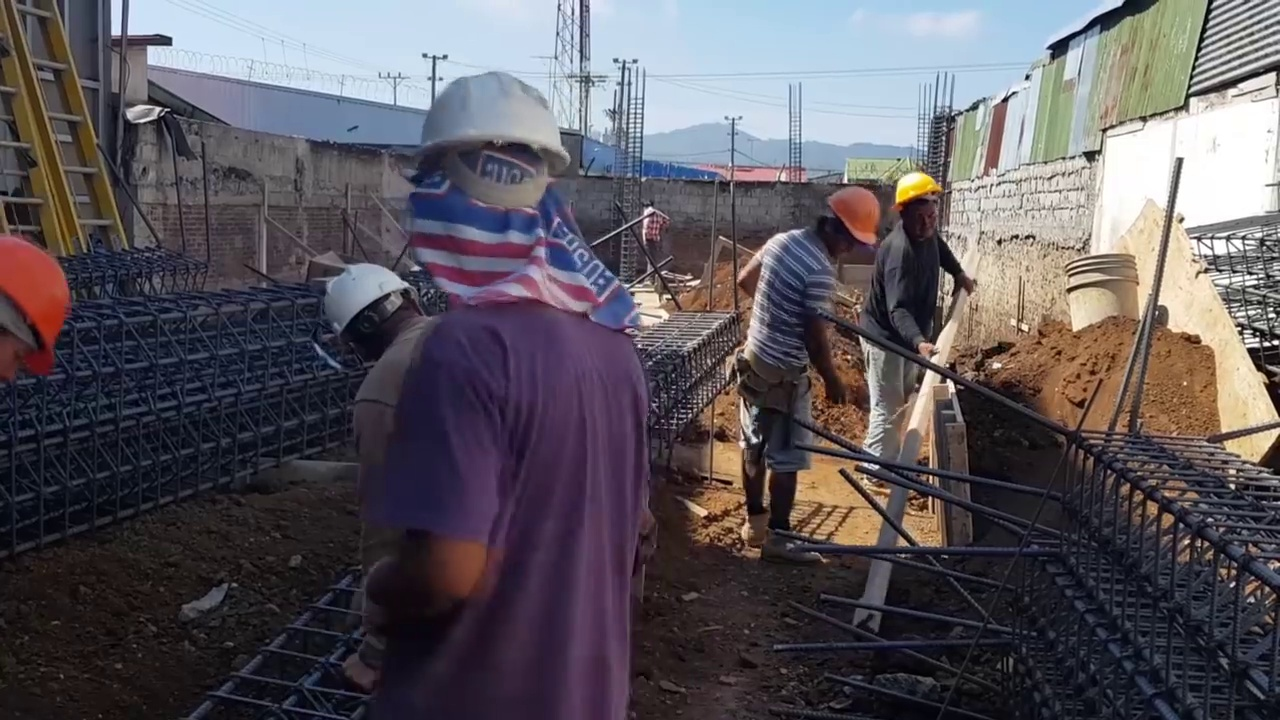helmet: (410, 68, 573, 168), (0, 238, 70, 380), (313, 266, 409, 349), (826, 185, 880, 246), (893, 172, 946, 204)
helmet-off: (641, 200, 657, 210)
helmet-on: (411, 68, 573, 282), (313, 256, 424, 363), (804, 185, 883, 261), (891, 172, 946, 244)
person: (358, 71, 668, 720), (737, 168, 882, 554), (307, 250, 457, 561), (863, 164, 983, 517), (638, 197, 671, 281)
